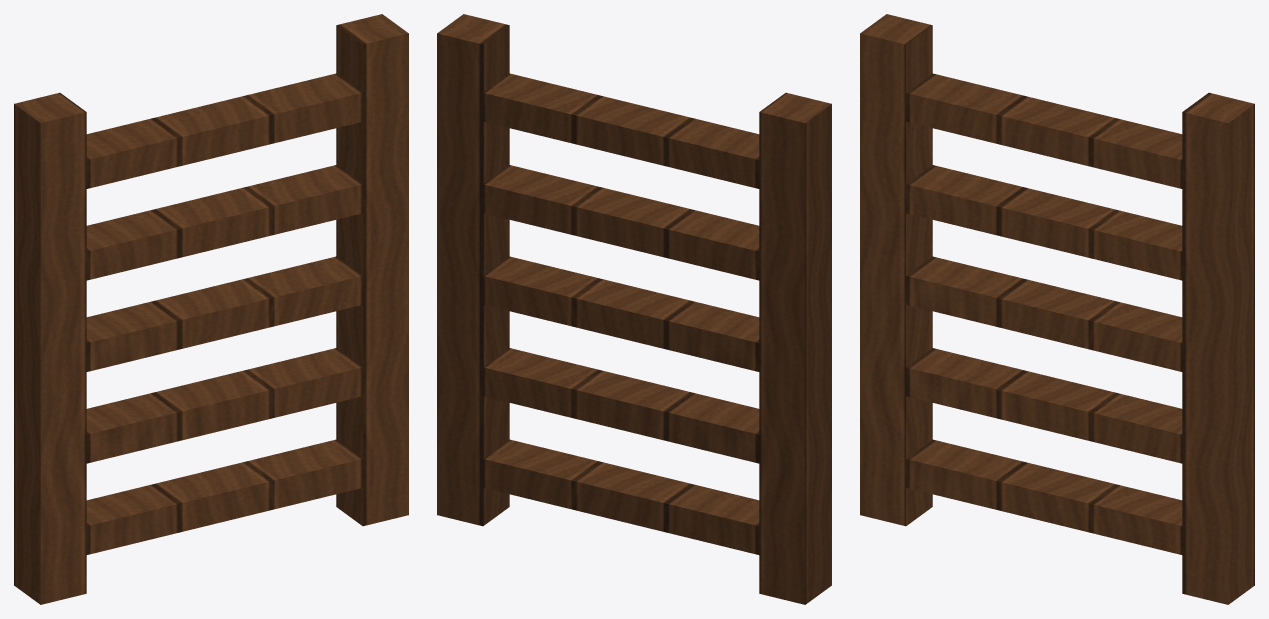
Rendered from ladder.glb.
The picture shows the model from 3 angles, left to right: view 1: azimuth 30°, elevation 25°; view 2: azimuth 150°, elevation 25°; view 3: azimuth 330°, elevation 25°; orthographic projection.
Visible parts, largest first — view 1: ladder; view 2: ladder; view 3: ladder.
Part boxes in pixels (<box>): ladder: <box>14,14,408,604</box>; ladder: <box>437,14,831,604</box>; ladder: <box>860,14,1254,604</box>.
Size of the model in its own units: 0.8 by 1 by 0.1.
Materials: 1 (1 with a texture image).
